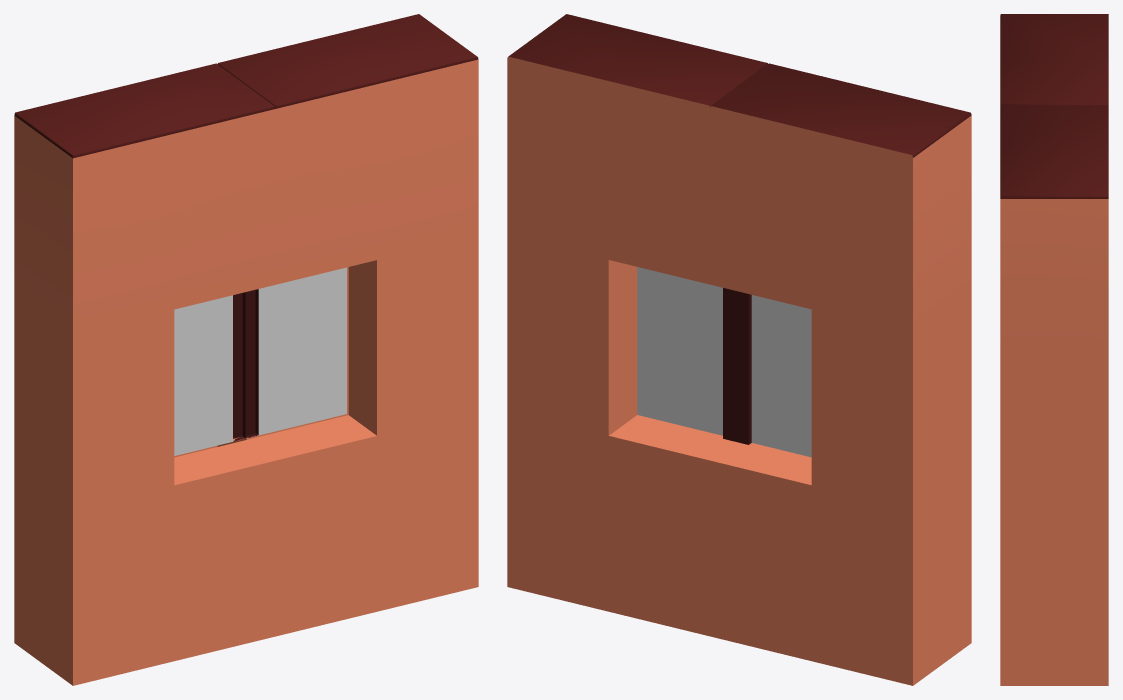
File: Walll window.fbx
The picture shows the model from 3 angles, left to right: view 1: azimuth 30°, elevation 25°; view 2: azimuth 150°, elevation 25°; view 3: azimuth 270°, elevation 25°; orthographic projection. The views are drawn at different scales.
Parts seen in each view (by area): view 1: Cube.009; view 2: Cube.009; view 3: Cube.009.
Part boxes in pixels (x1,y1,x2,y2): Cube.009: (14, 14, 478, 685); Cube.009: (507, 14, 971, 685); Cube.009: (1000, 14, 1108, 685).
Size of the model in its own units: 400 by 500 by 100.
